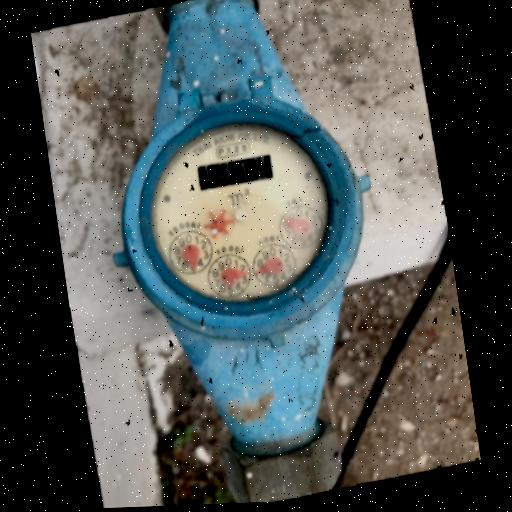1: (198, 164, 219, 191), (235, 158, 254, 184)
3: (217, 161, 237, 187)
4: (252, 154, 274, 180)
border_water_meter_number: (197, 153, 275, 192)
